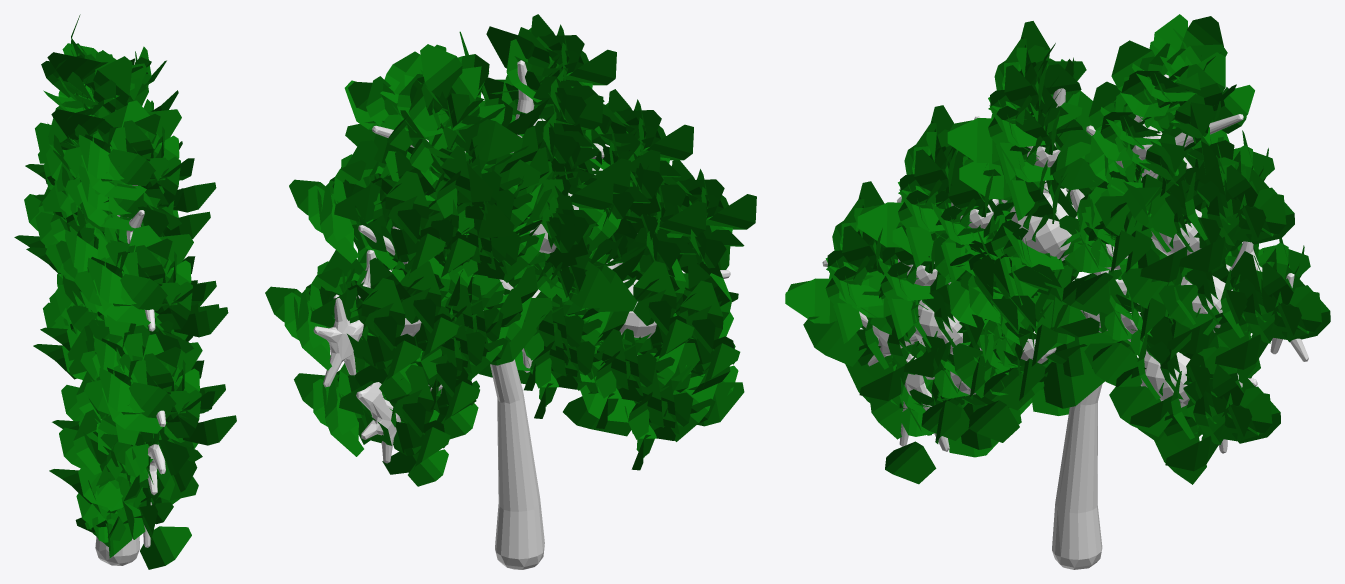
Rendered from Tree.fbx.
3 views of the same model, side by side, from view 1: azimuth 30°, elevation 25°; view 2: azimuth 150°, elevation 25°; view 3: azimuth 270°, elevation 25° (orthographic). The views are drawn at different scales.
Visible parts, largest first — view 1: Cube, Plane.455, Plane.007, Plane.116, Plane.212, Plane.253, Plane.433, Plane.114, Plane.040, Plane.286, Plane.245, Plane.213 (+90 smaller); view 2: Cube, Plane.122, Plane.120, Cube.013|Plane|Dupli|52, Plane.351, Plane.392, Cube.004|Plane|Dupli|35, Plane.286, Plane.040, Plane.433, Plane.401, Plane.245 (+64 smaller); view 3: Cube, Plane.524, Cube.015, Cube.001|Plane|Dupli|50, Plane.448, Plane.023, Plane.269, Plane.407, Plane.325, Plane.366, Plane.455, Plane.496 (+61 smaller).
Boxes of the visible parts, x1,y1,x2,y2 form: Cube: (95,185,165,565); Plane.455: (140,526,191,569); Plane.007: (108,149,155,186); Plane.116: (93,56,132,110); Plane.212: (120,274,167,310); Plane.253: (129,382,176,418); Plane.433: (73,409,101,474); Plane.114: (47,52,107,81); Plane.040: (78,134,120,180); Plane.286: (99,367,140,413); Plane.245: (90,259,131,305); Plane.213: (174,307,228,337); Cube: (313,60,730,569); Plane.122: (455,115,523,161); Plane.120: (420,44,462,98); Cube.013|Plane|Dupli|52: (568,257,620,308); Plane.351: (361,278,405,337); Plane.392: (385,171,428,229); Cube.004|Plane|Dupli|35: (633,261,676,317); Plane.286: (706,194,756,229); Plane.040: (563,49,616,85); Plane.433: (680,280,723,340); Plane.401: (334,174,388,222); Plane.245: (640,124,693,160); Cube: (822,74,1308,569); Plane.524: (1043,362,1104,408); Cube.015: (1010,188,1077,260); Cube.001|Plane|Dupli|50: (1084,343,1142,386); Plane.448: (803,316,866,366); Plane.023: (947,118,999,163); Plane.269: (785,278,837,323); Plane.407: (1123,187,1186,237); Plane.325: (1109,386,1172,436); Plane.366: (1159,285,1222,335); Plane.455: (885,441,936,484); Plane.496: (968,400,1019,442).
Bounding box in the file's own units: 5.2 × 3.17 × 5.91.
